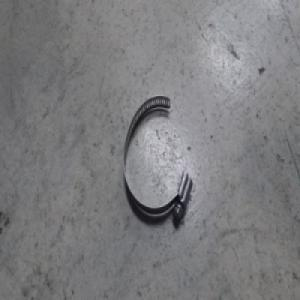AdjustableClamp: (122, 95, 193, 223)
